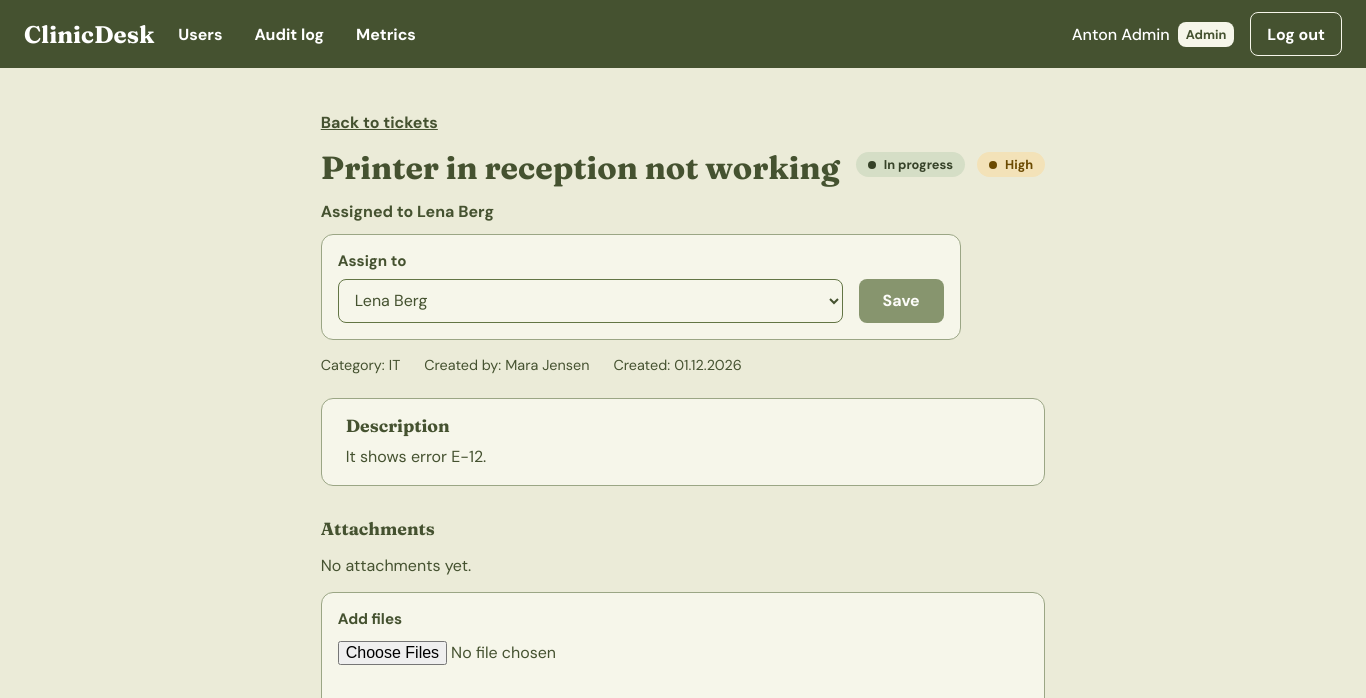
Scenario: assignment for admins › unassigns with the "Unassigned" option
Select "Unassigned" in the dropdown labelled "Assign to" at (590, 301), box [338,279,843,323]
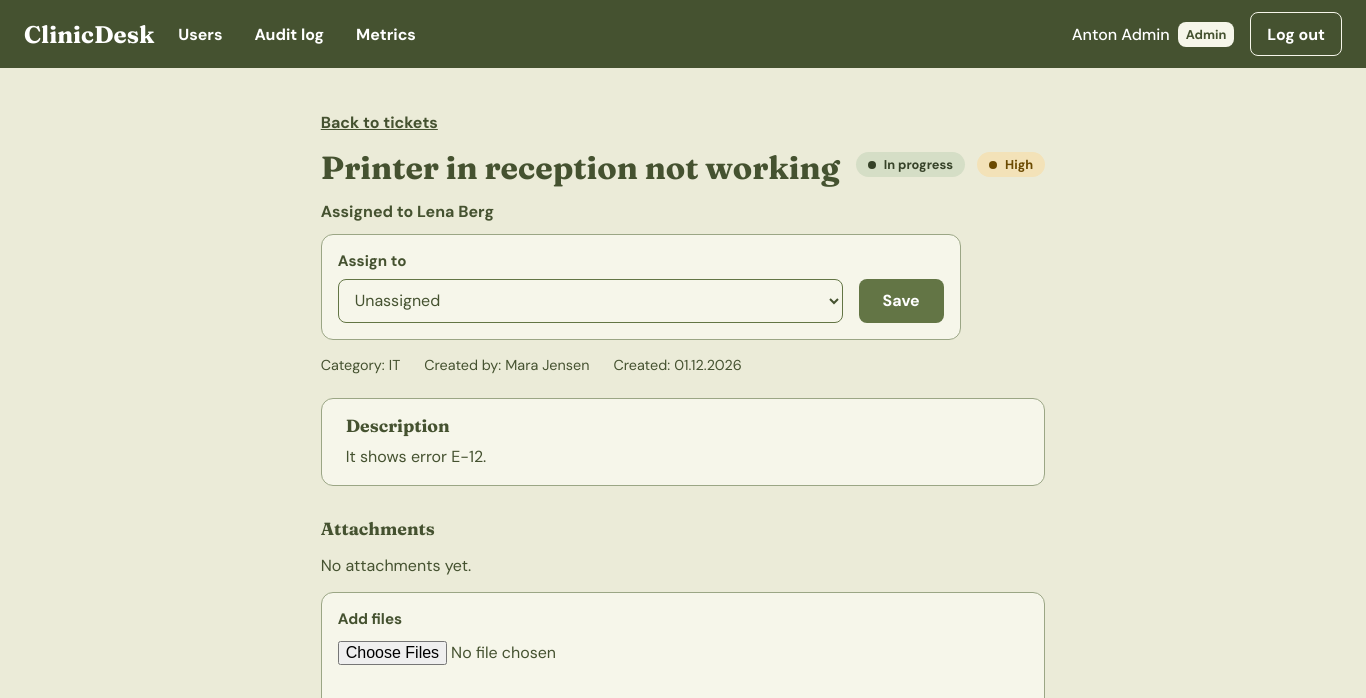
Click the button "Save".
click(901, 301)  # box [859,279,944,323]
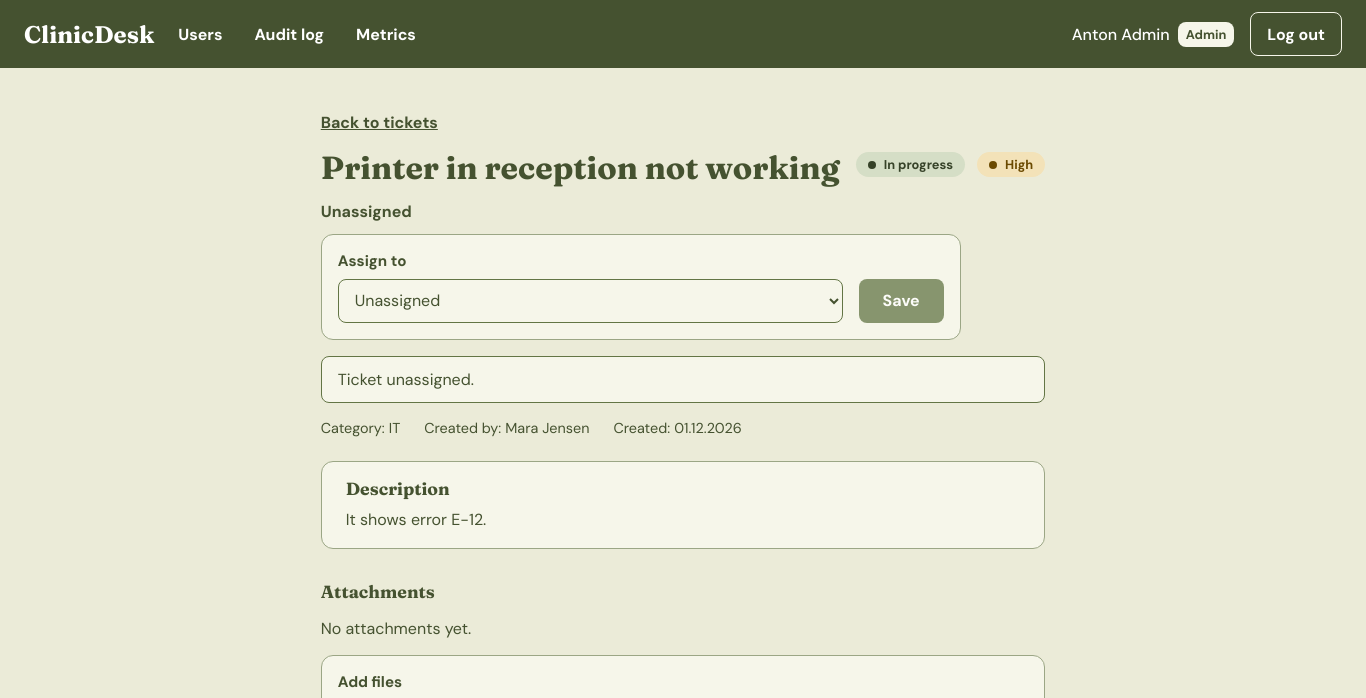
Result: the text "Ticket unassigned." is shown at [321,356,1045,403]
Result: the text with class "assignee-line" reads "Unassigned" at [321,201,412,222]
